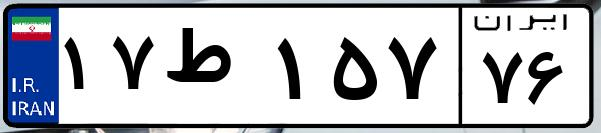1: (270, 28, 330, 110), (57, 26, 110, 100)
5: (330, 28, 385, 110)
6: (525, 38, 570, 115)
7: (385, 28, 445, 110), (475, 38, 525, 113), (110, 28, 158, 98)
ط: (158, 20, 270, 120)
